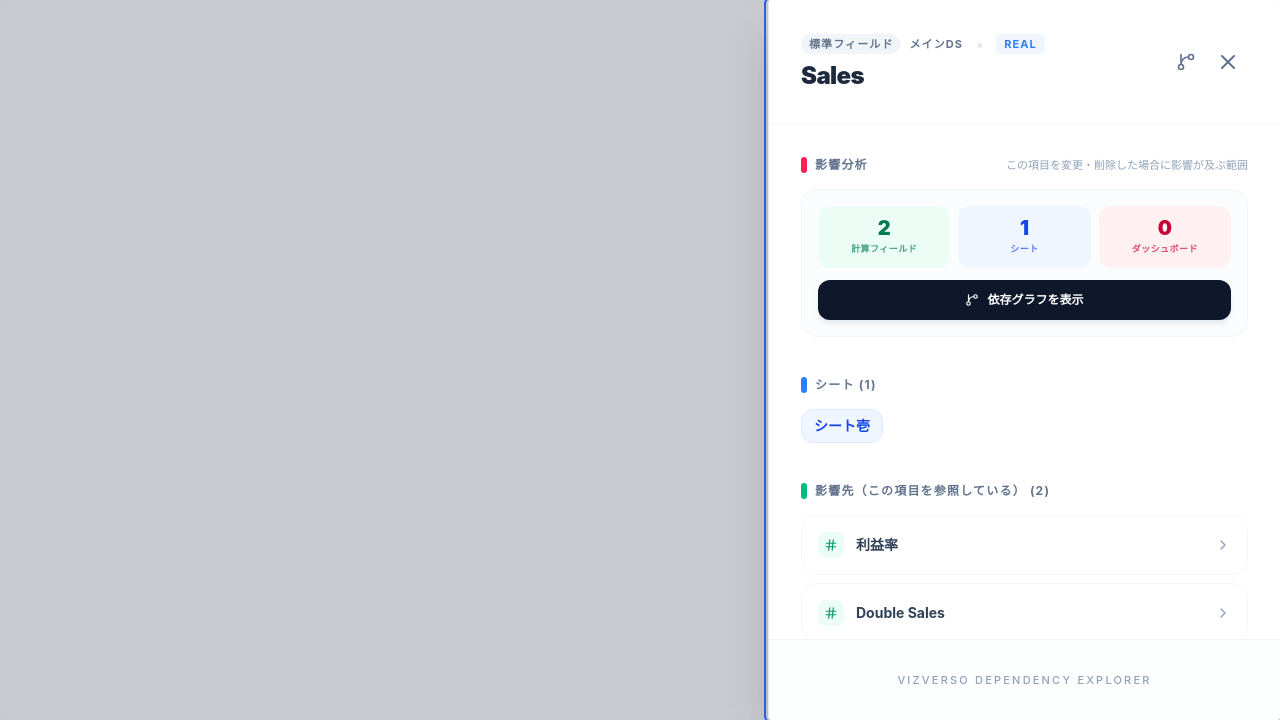
Test case: SideDrawer - ナビゲーション履歴 › フィールド名クリックで履歴が積まれ、戻るボタンで戻れること
Note: downstream の Double Sales へドリルダウン
Click the button "Double Sales".
click(900, 612)  # box [801,582,1248,642]
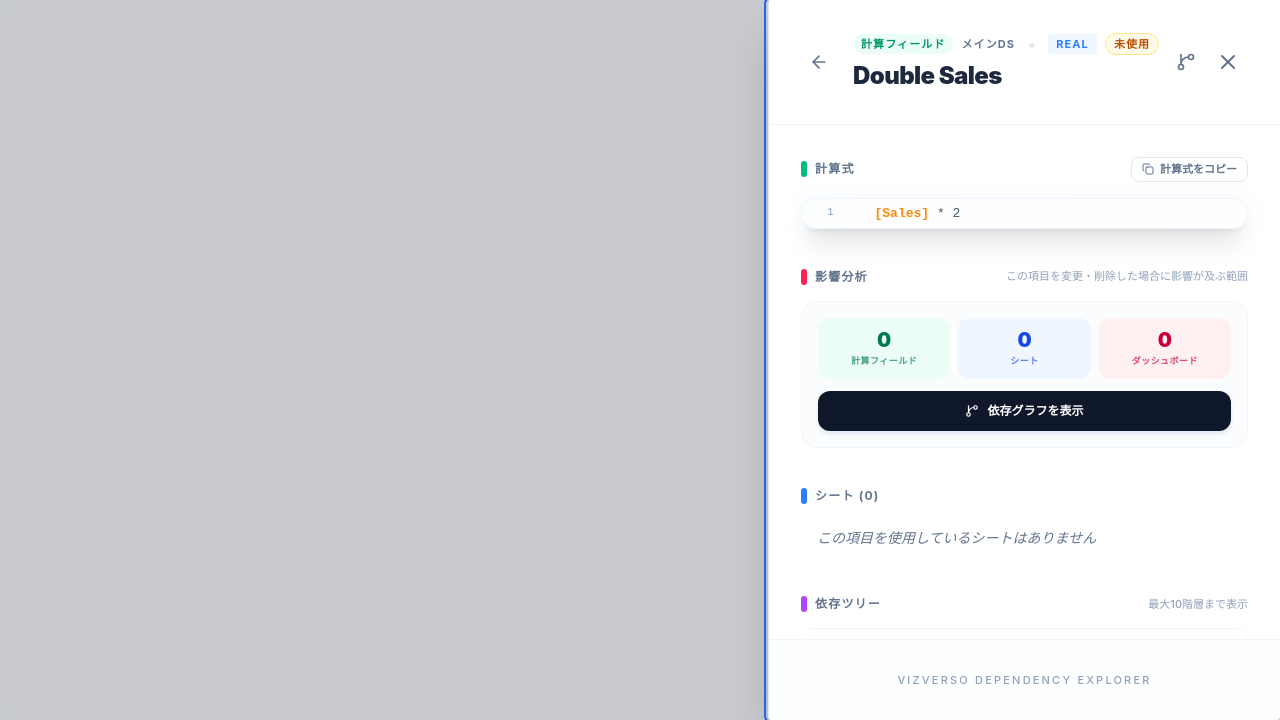
Check: the heading "Double Sales" is shown, box [853,61,1002,90]
Note: 履歴が積まれて戻るボタンが表示される
Click the button titled "戻る".
click(819, 62)  # box [801,44,837,80]
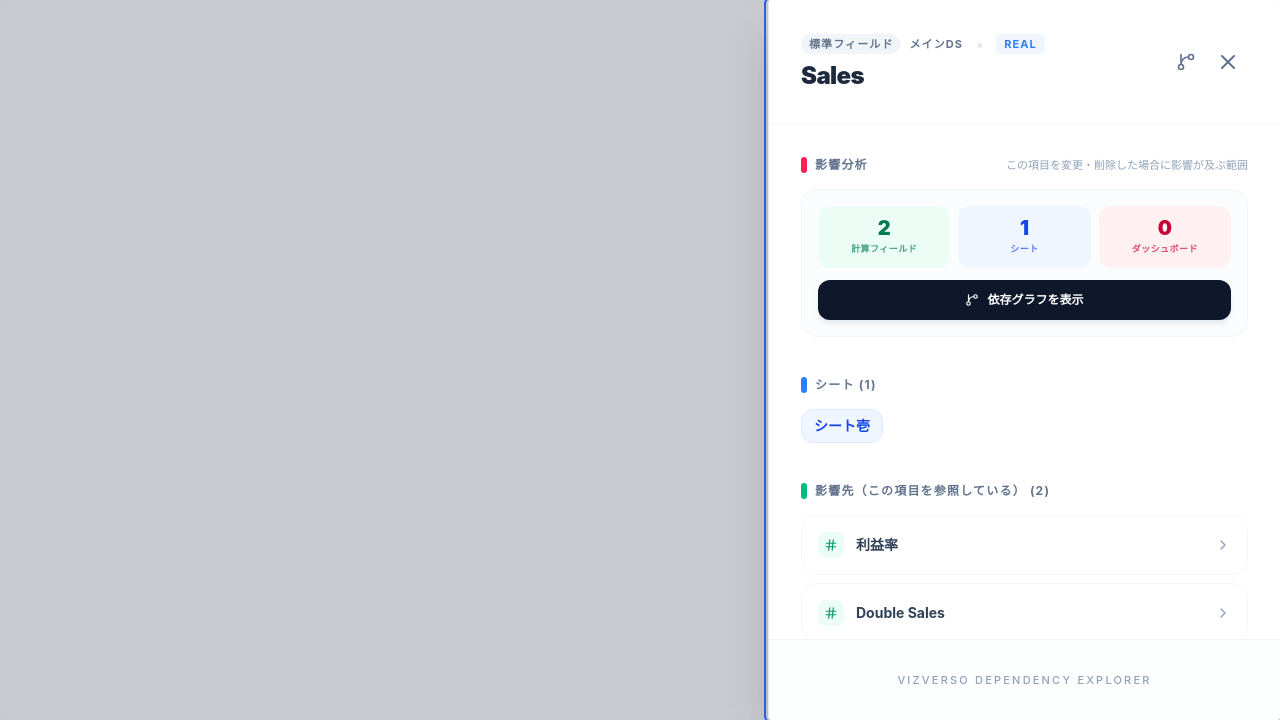
Check: the heading "Sales" is shown, box [801,61,864,90]
Check: the button titled "戻る" is gone
